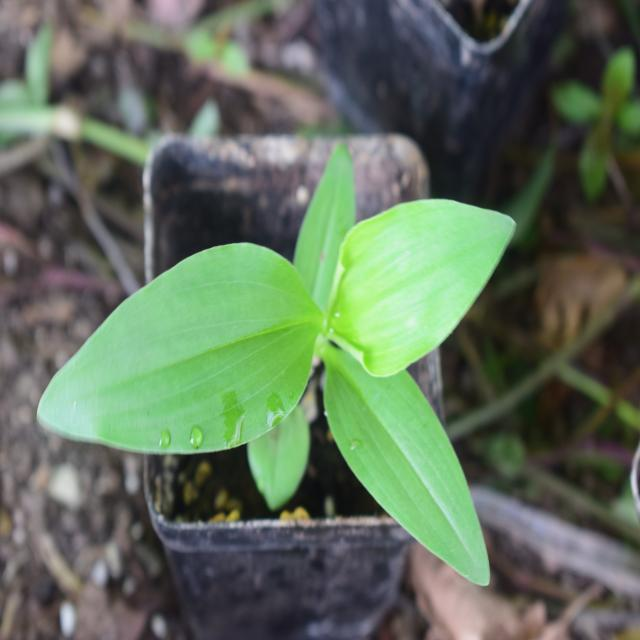Common Dayflower: (73, 199, 520, 589)
